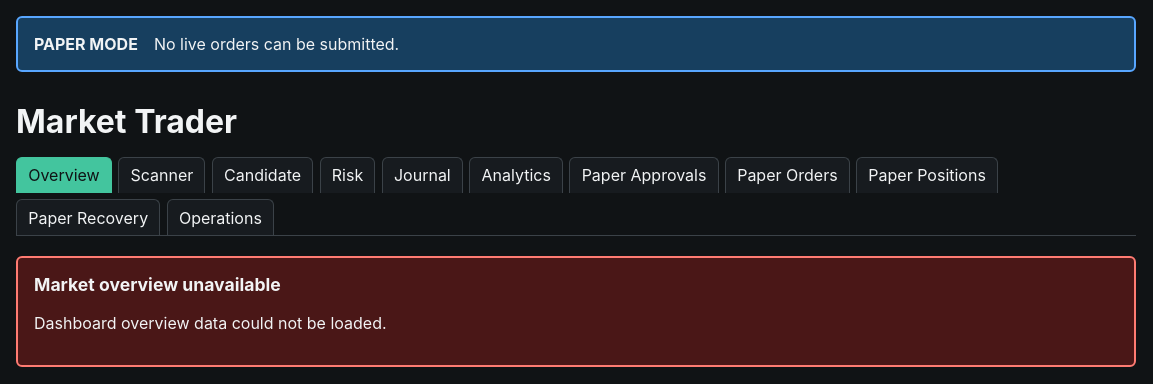
Test: includes paper approvals as a dashboard tab
Click the tab "Paper Approvals".
click(644, 175)  # box [570,157,719,193]
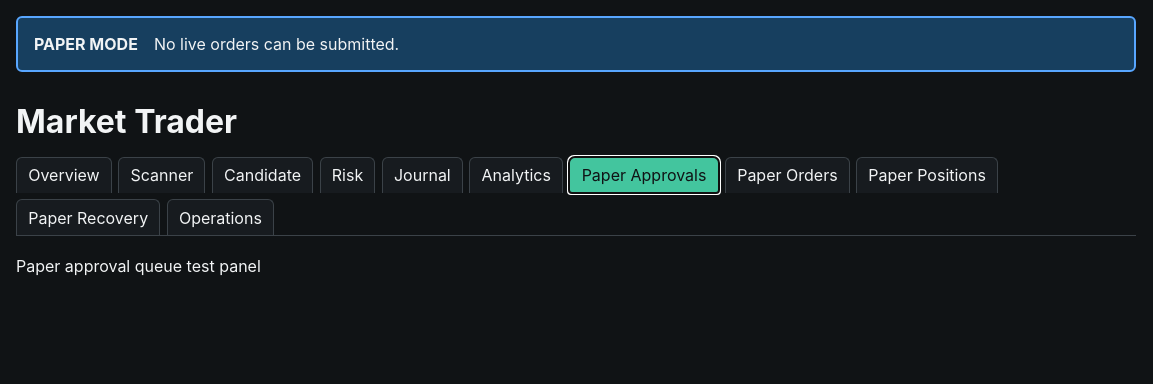
Expected: the panel named "Paper Approvals" reads "Paper approval queue test panel", [16,256,261,276]
